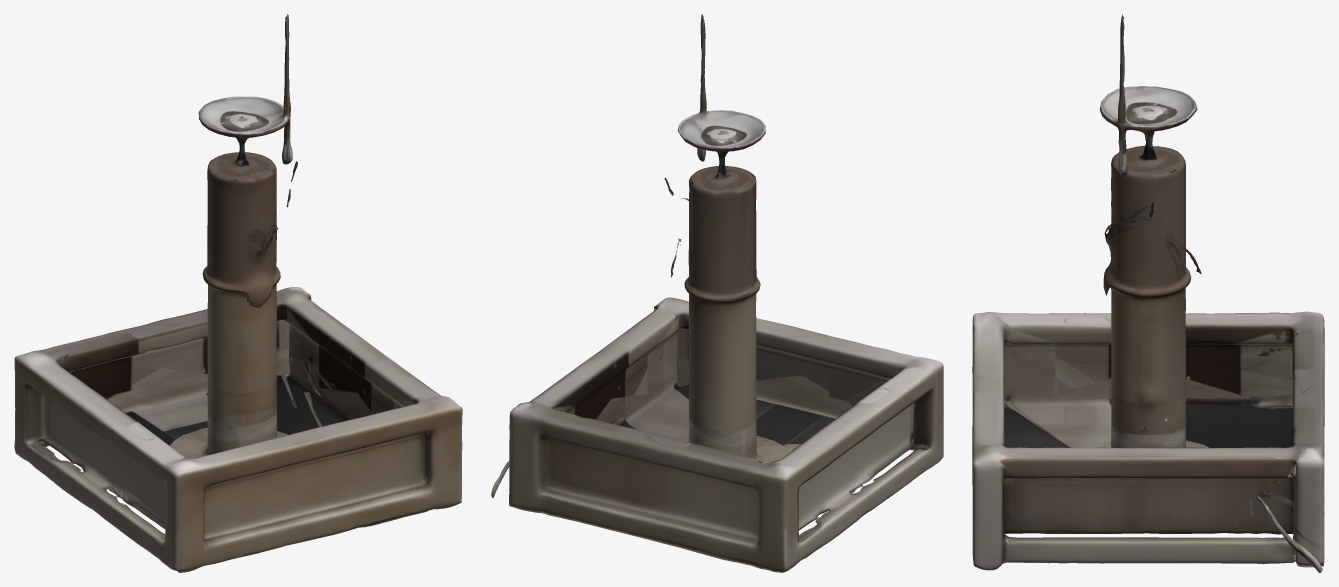
Rendered from survey-marker.obj.
3 views of the same model, side by side, from view 1: azimuth 30°, elevation 25°; view 2: azimuth 150°, elevation 25°; view 3: azimuth 270°, elevation 25° (orthographic). The views are drawn at different scales.
Visible parts, largest first — view 1: Survey_Marker_Install_1031045151; view 2: Survey_Marker_Install_1031045151; view 3: Survey_Marker_Install_1031045151.
Boxes of the visible parts, x1,y1,x2,y2 form: Survey_Marker_Install_1031045151: (14,14,462,572); Survey_Marker_Install_1031045151: (491,14,943,572); Survey_Marker_Install_1031045151: (972,14,1324,572).
Bounding box in the file's own units: 1.32 × 1.93 × 1.23.
